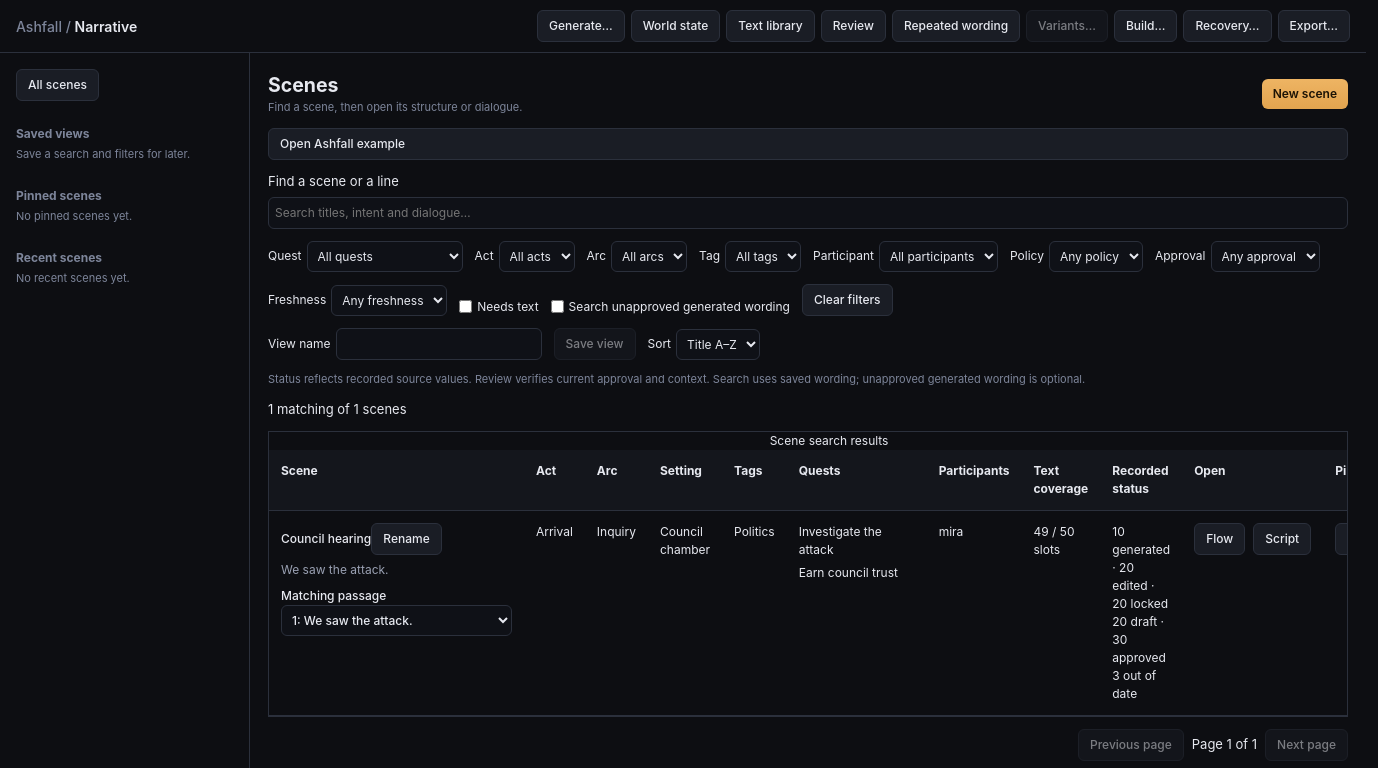
Test: Narrative discovery and editor handoff › opens on the main library and enters a scene without cloning its source
Click the button with aria-label "Open Council hearing in Flow" at (1220,539), box [1194,523,1245,555]
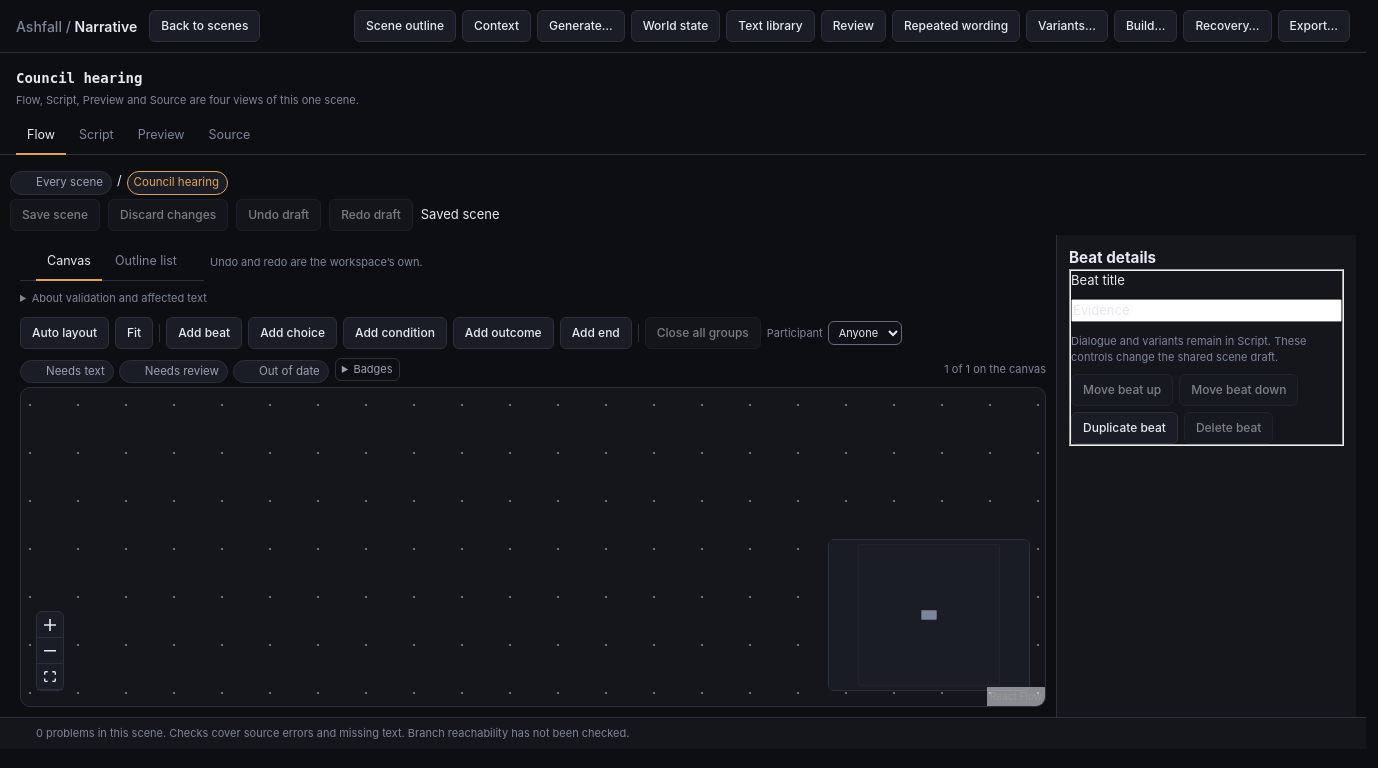
expect the element named "Narrative editor" is shown: met
